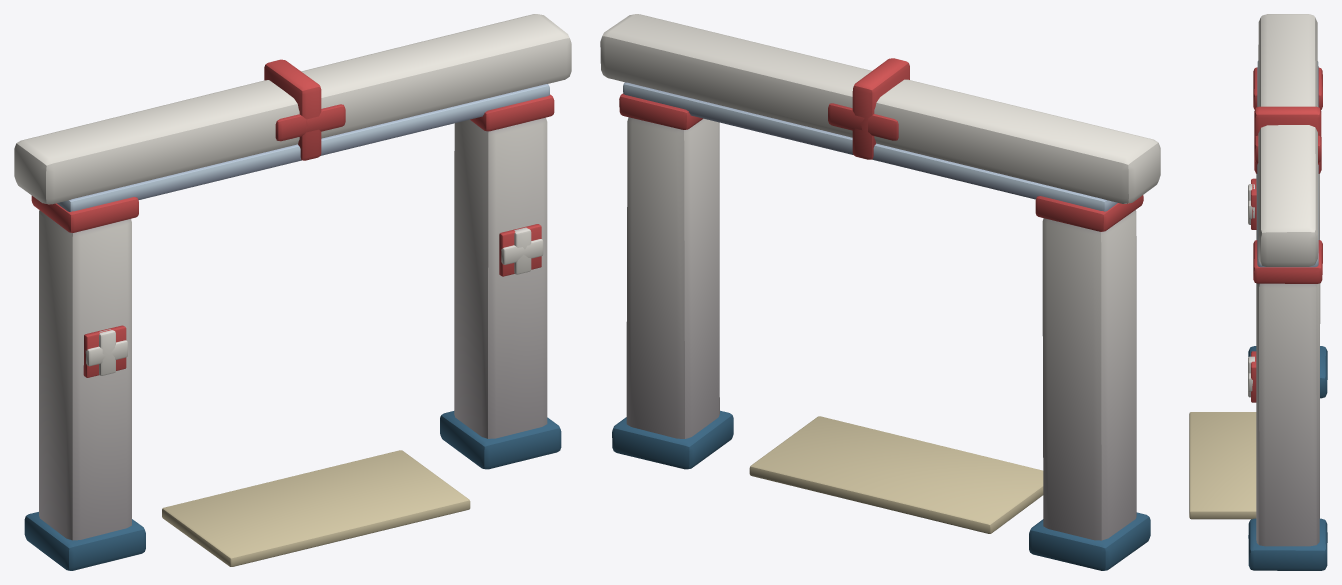
The picture shows the model from 3 angles, left to right: view 1: azimuth 30°, elevation 25°; view 2: azimuth 150°, elevation 25°; view 3: azimuth 270°, elevation 25°; orthographic projection. The views are drawn at different scales.
Parts seen in each view (by area): view 1: gate_1853de9c; view 2: gate_1853de9c; view 3: gate_1853de9c.
Boxes of the visible parts, x1,y1,x2,y2 form: gate_1853de9c: [14, 14, 571, 570]; gate_1853de9c: [600, 14, 1160, 570]; gate_1853de9c: [1189, 14, 1327, 570].
Size of the model in its own units: 5.29 by 4.04 by 1.4.
